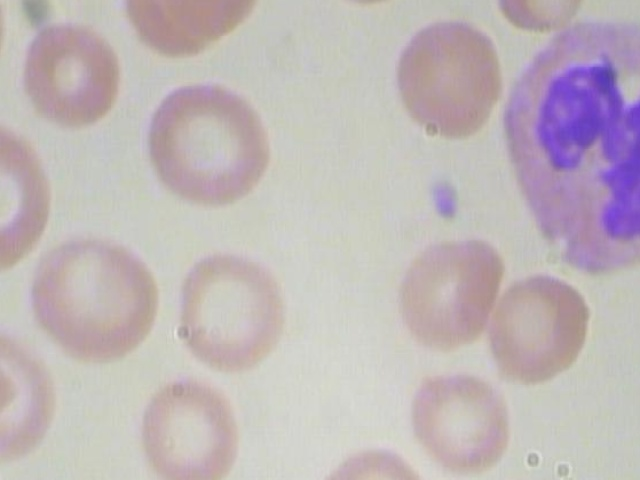Platelets: (426, 172, 471, 234)
RBC: (20, 237, 162, 369), (148, 78, 278, 210), (377, 7, 507, 139), (165, 247, 294, 379), (390, 232, 508, 361), (476, 259, 594, 388), (123, 366, 252, 480), (399, 358, 521, 478), (11, 15, 133, 135), (0, 119, 58, 278), (0, 331, 65, 451), (104, 0, 226, 54), (150, 0, 272, 40), (493, 0, 588, 40)
WBC: (500, 15, 640, 291)
